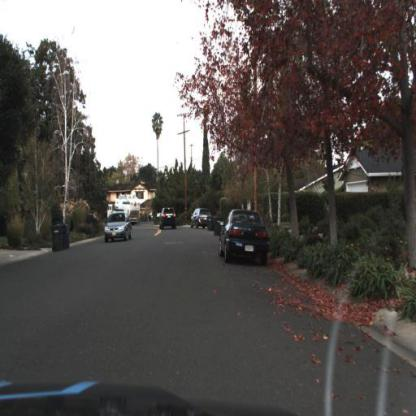car: (216, 207, 270, 263), (102, 213, 132, 241), (189, 206, 212, 232), (187, 206, 211, 226), (157, 206, 176, 230)
truck: (107, 195, 141, 223)
